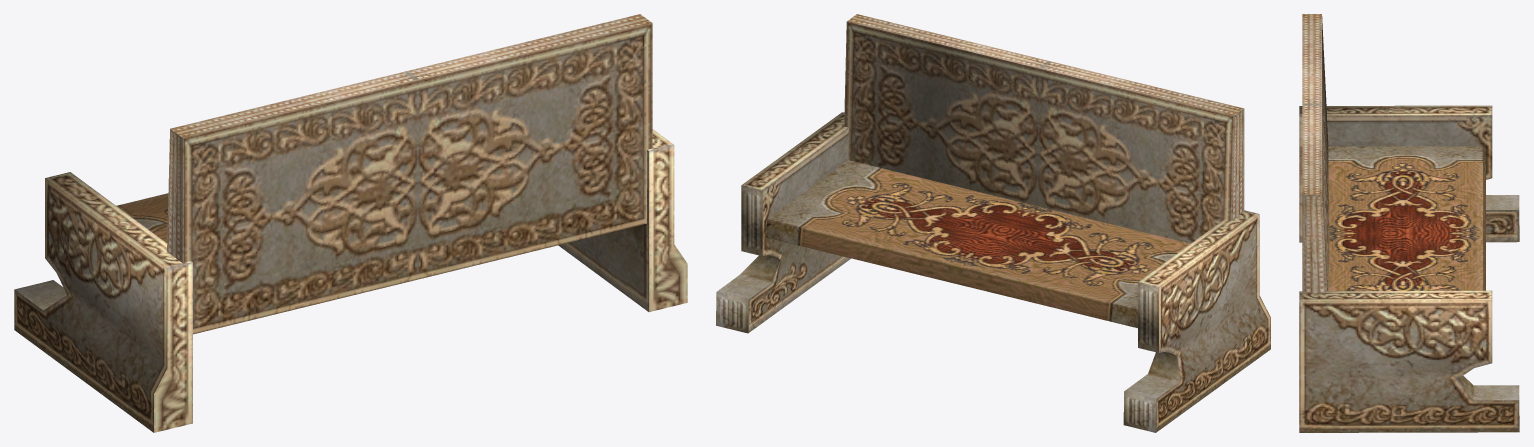
File: rd_ben2.glb
The picture shows the model from 3 angles, left to right: view 1: azimuth 30°, elevation 25°; view 2: azimuth 150°, elevation 25°; view 3: azimuth 270°, elevation 25°; orthographic projection. The views are drawn at different scales.
Visible parts, largest first — view 1: rd_ben2; view 2: rd_ben2; view 3: rd_ben2.
Boxes of the visible parts, bbox=[...] form: rd_ben2: bbox=[14, 14, 687, 432]; rd_ben2: bbox=[716, 14, 1270, 432]; rd_ben2: bbox=[1299, 14, 1519, 432].
Size of the model in its own units: 2.77 by 1.42 by 1.25.
1 material, 1 textured.
